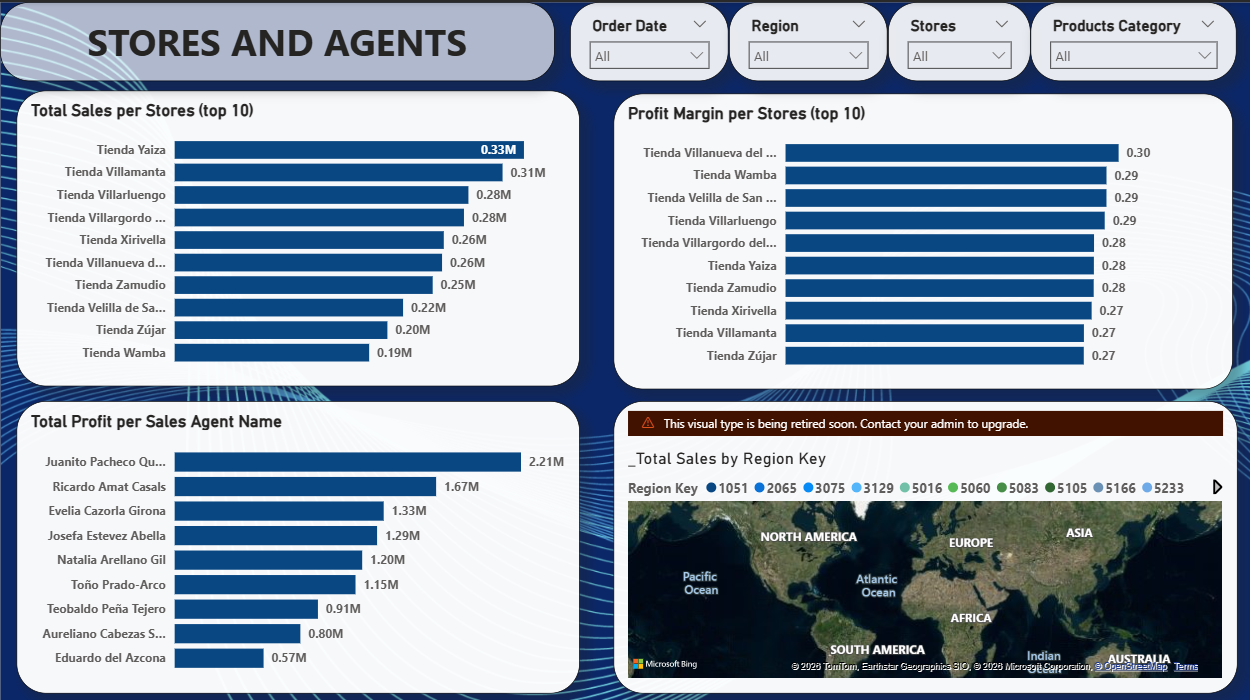

Layout of this report page (visuals, bound fields, positions):
{"tool":"powerbi","page":{"name":"Stores and Agents","canvas":[1280,720],"ordinal":2},"visuals":[{"type":"barChart","title":"Total Sales per Stores (top 10)","fields":{"Category":["Stores.Stores"],"Y":["Sales._Total Sales"]},"box":[16.7,90,568.3,298.3],"z":0},{"type":"textbox","box":[0,0,560,80],"z":1000},{"type":"barChart","title":"Profit Margin per Stores (top 10)","fields":{"Category":["Stores.Stores"],"Y":["Sales._Profit Margin %"]},"box":[620,91.7,625,298.3],"z":2000},{"type":"barChart","title":"Total Profit per Sales Agent Name","fields":{"Category":["SalesAgents.Sales Agent Name"],"Y":["Sales._Total Profit"]},"box":[16.7,403.3,568.3,295],"z":3000},{"type":"filledMap","fields":{"Series":["Locations.Region Key"]},"box":[620,403.3,630,295],"z":4000},{"type":"slicer","fields":{"Values":["Sales.Order Date"]},"box":[576,0,160,80],"z":5000},{"type":"slicer","fields":{"Values":["Locations.Region"]},"box":[736,0,160,80],"z":6000},{"type":"slicer","fields":{"Values":["Stores.Stores"]},"box":[896,0,144,80],"z":7000},{"type":"slicer","fields":{"Values":["Products.Products Category"]},"box":[1040,0,208,80],"z":8000}]}

Visuals, with their boxes in screenshot pixels (x1, y1, x2, y2), scaled from the page's 1280x720 canvas onto the 1250x700 screenshot:
"Total Sales per Stores (top 10)" barChart: rect(16, 88, 571, 378)
textbox: rect(0, 0, 547, 78)
"Profit Margin per Stores (top 10)" barChart: rect(605, 89, 1216, 379)
"Total Profit per Sales Agent Name" barChart: rect(16, 392, 571, 679)
filledMap - Locations.Region Key: rect(605, 392, 1221, 679)
slicer - Sales.Order Date: rect(562, 0, 719, 78)
slicer - Locations.Region: rect(719, 0, 875, 78)
slicer - Stores.Stores: rect(875, 0, 1016, 78)
slicer - Products.Products Category: rect(1016, 0, 1219, 78)
